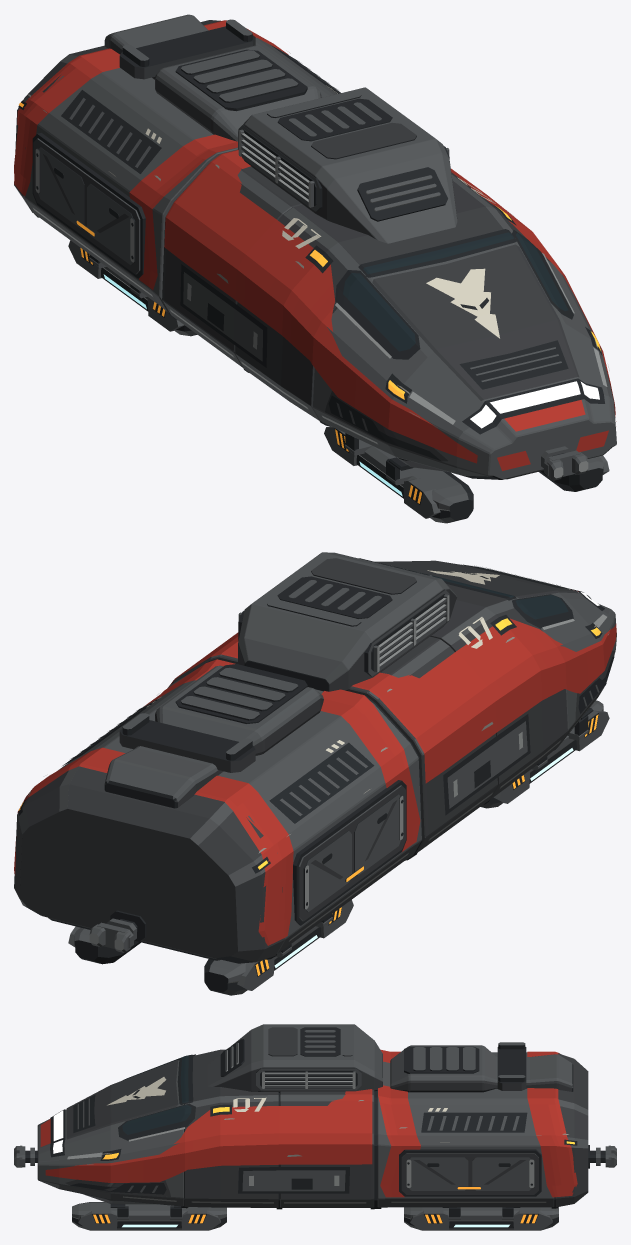
The model's file is maglev_train_cargo.glb.
The picture shows the model from 3 angles, top to bottom: view 1: azimuth 30°, elevation 25°; view 2: azimuth 150°, elevation 25°; view 3: azimuth 270°, elevation 25°; orthographic projection. The views are drawn at different scales.
Visible parts, largest first — view 1: cargo_body, sled_cargo_front, sled_cargo_rear, drawhead_front; view 2: cargo_body, sled_cargo_rear, sled_cargo_front, drawhead_rear; view 3: cargo_body, sled_cargo_front, sled_cargo_rear, drawhead_rear, drawhead_front.
Part boxes in pixels (<box>): cargo_body: <box>14,14,616,479</box>; sled_cargo_front: <box>324,426,609,523</box>; sled_cargo_rear: <box>68,240,197,336</box>; drawhead_front: <box>541,446,588,480</box>; cargo_body: <box>14,552,616,963</box>; sled_cargo_rear: <box>68,899,353,995</box>; sled_cargo_front: <box>480,700,609,808</box>; drawhead_rear: <box>89,910,146,952</box>; cargo_body: <box>37,1024,588,1209</box>; sled_cargo_front: <box>72,1202,226,1230</box>; sled_cargo_rear: <box>404,1207,558,1230</box>; drawhead_rear: <box>588,1145,616,1168</box>; drawhead_front: <box>14,1145,37,1167</box>.
Bounding box in the file's own units: 3.66 × 3.29 × 10.9.
